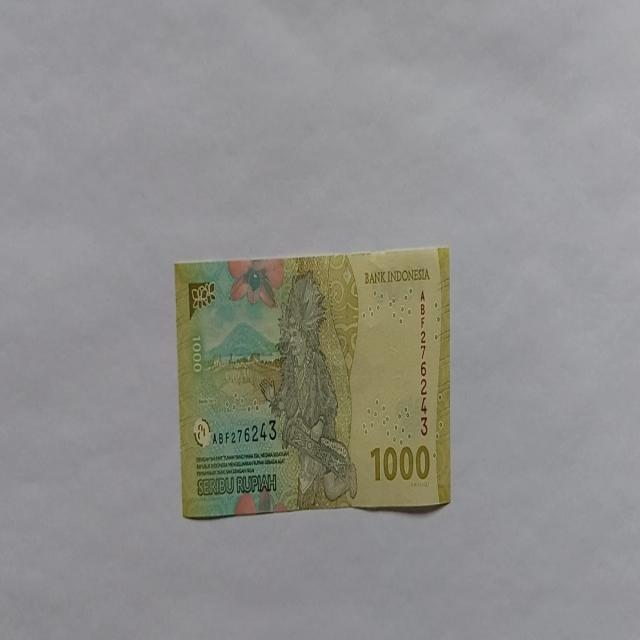seribu rupiah kertas: (174, 245, 452, 519)
